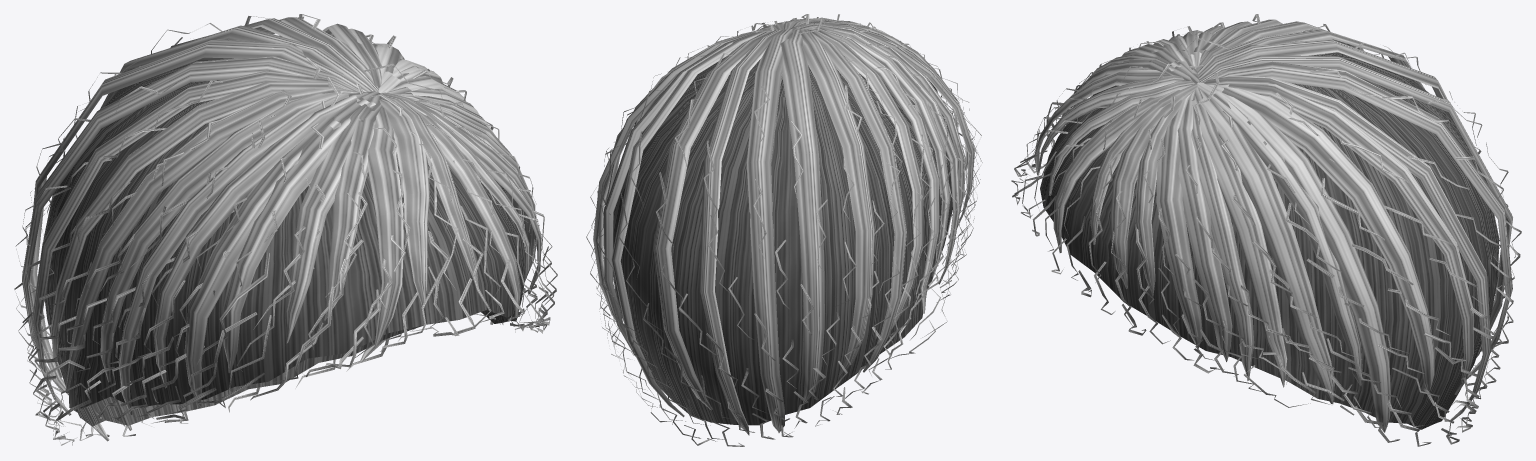
File: unified_f_curly.glb
The picture shows the model from 3 angles, left to right: view 1: azimuth 30°, elevation 25°; view 2: azimuth 150°, elevation 25°; view 3: azimuth 270°, elevation 25°; orthographic projection. The views are drawn at different scales.
Visible parts, largest first — view 1: Hair_directional_locks, Hair_scalp, Hair_layered_strands; view 2: Hair_directional_locks, Hair_scalp, Hair_layered_strands; view 3: Hair_directional_locks, Hair_scalp, Hair_layered_strands.
Boxes of the visible parts, x1,y1,x2,y2 form: Hair_directional_locks: (22, 17, 541, 441); Hair_scalp: (43, 35, 526, 426); Hair_layered_strands: (14, 14, 557, 445); Hair_directional_locks: (593, 18, 974, 435); Hair_scalp: (613, 56, 958, 425); Hair_layered_strands: (586, 14, 982, 446); Hair_directional_locks: (1034, 19, 1512, 432); Hair_scalp: (1040, 52, 1499, 429); Hair_layered_strands: (1011, 14, 1521, 446).
Size of the model in its own units: 0.0976 by 0.0959 by 0.1143.
Materials: 2 (2 with a texture image).
